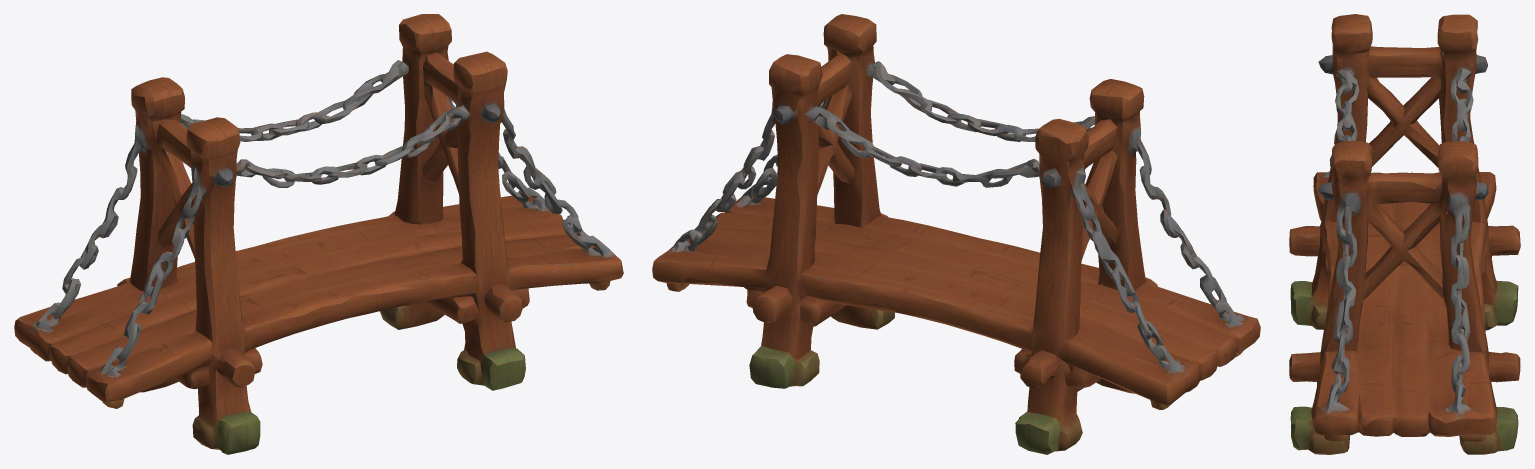
The model's file is lg-drawbridge.glb.
The picture shows the model from 3 angles, left to right: view 1: azimuth 30°, elevation 25°; view 2: azimuth 150°, elevation 25°; view 3: azimuth 270°, elevation 25°; orthographic projection. The views are drawn at different scales.
Parts seen in each view (by area): view 1: geometry_0; view 2: geometry_0; view 3: geometry_0.
Part boxes in pixels (left/top/right/bottom): geometry_0: left=14, top=14, right=623, bottom=454; geometry_0: left=652, top=14, right=1260, bottom=454; geometry_0: left=1289, top=14, right=1520, bottom=454.
Bounding box in the file's own units: 1 × 0.567 × 0.3971.
Materials: 1 (1 with a texture image).
